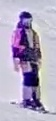skier: (10, 11, 56, 115)
